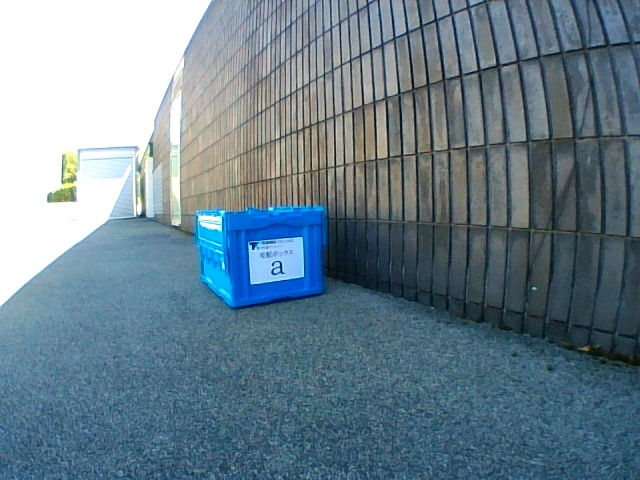blue_box: (196, 207, 325, 306)
tag_a: (258, 246, 294, 277)
